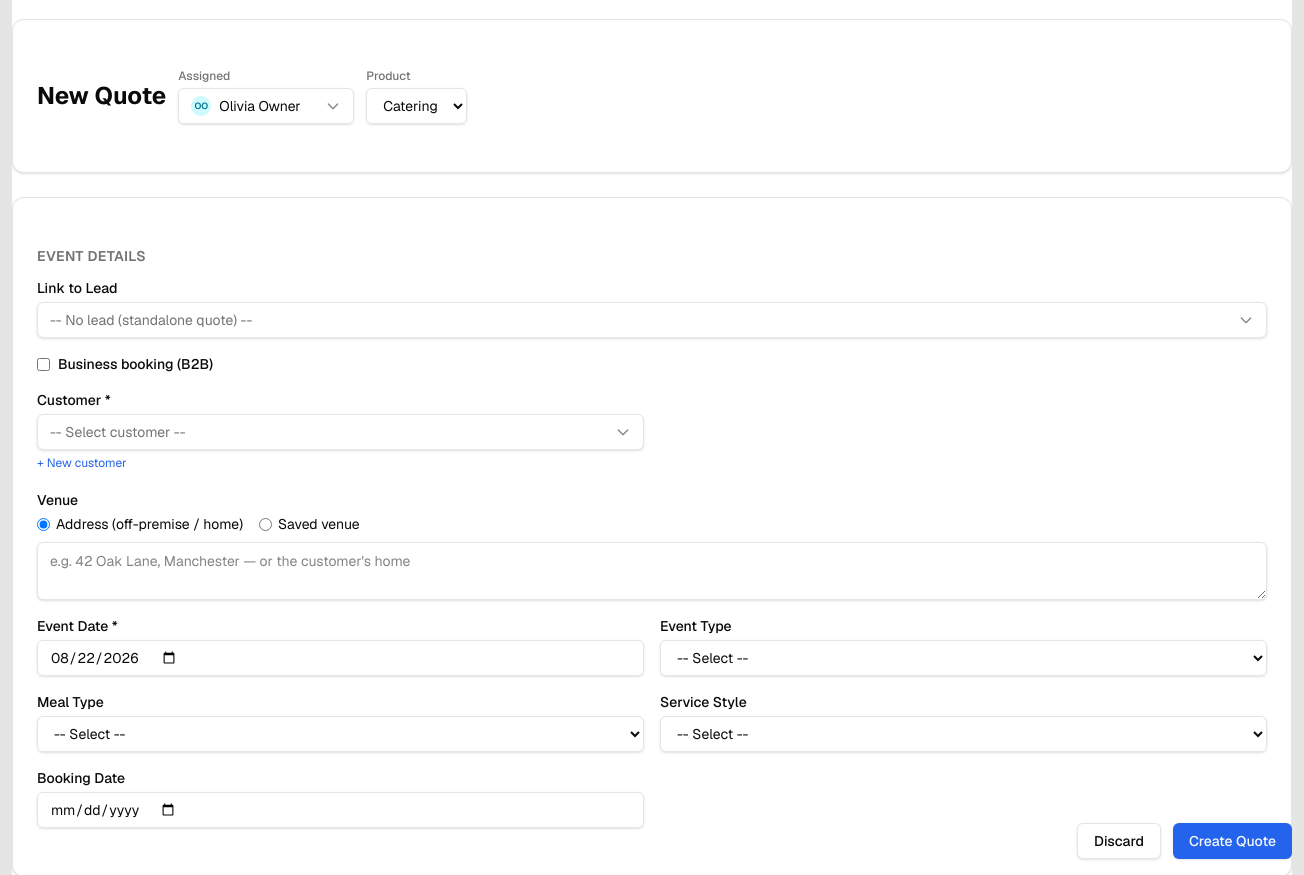
Quote create — linking to a lead › filters to one lead and prefills the quote from it
Click the button with aria-label "Link to Lead": (151, 320) [37,302,1267,338]
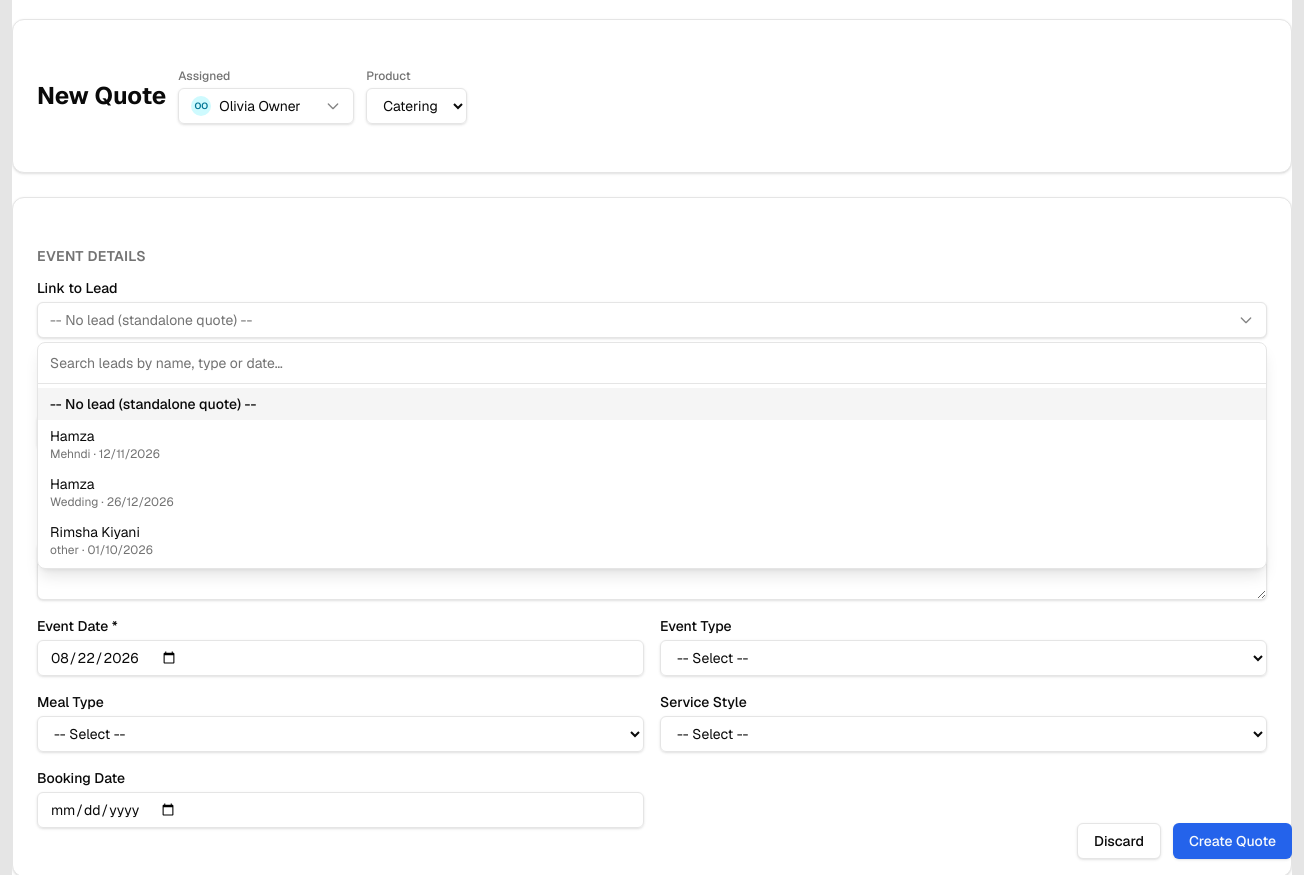
In the field named "Search link to lead": (652, 363) [50,353,1254,373], type "rimsha"
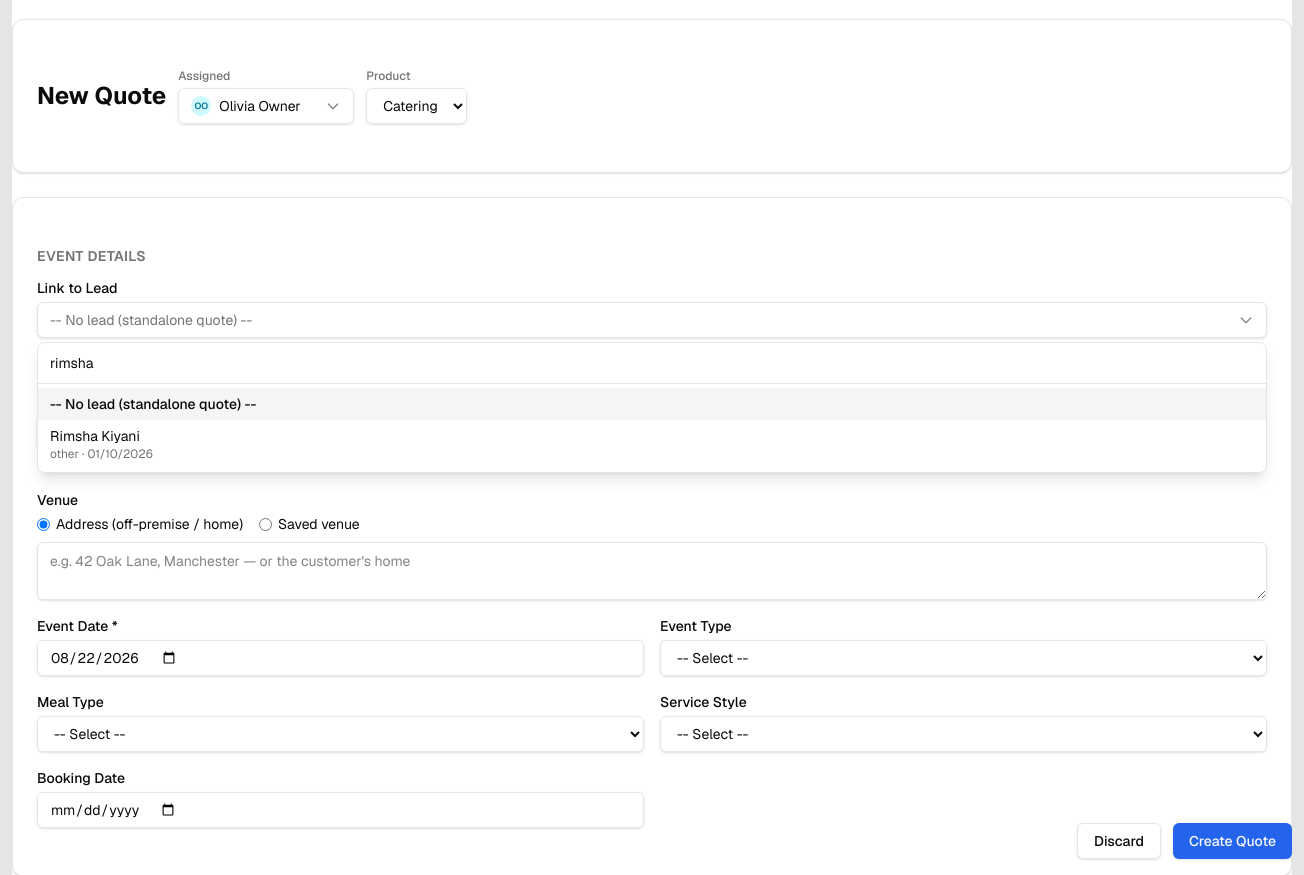
Click the text "Rimsha Kiyani": (95, 436) [50,426,140,446]
(page scrolled)
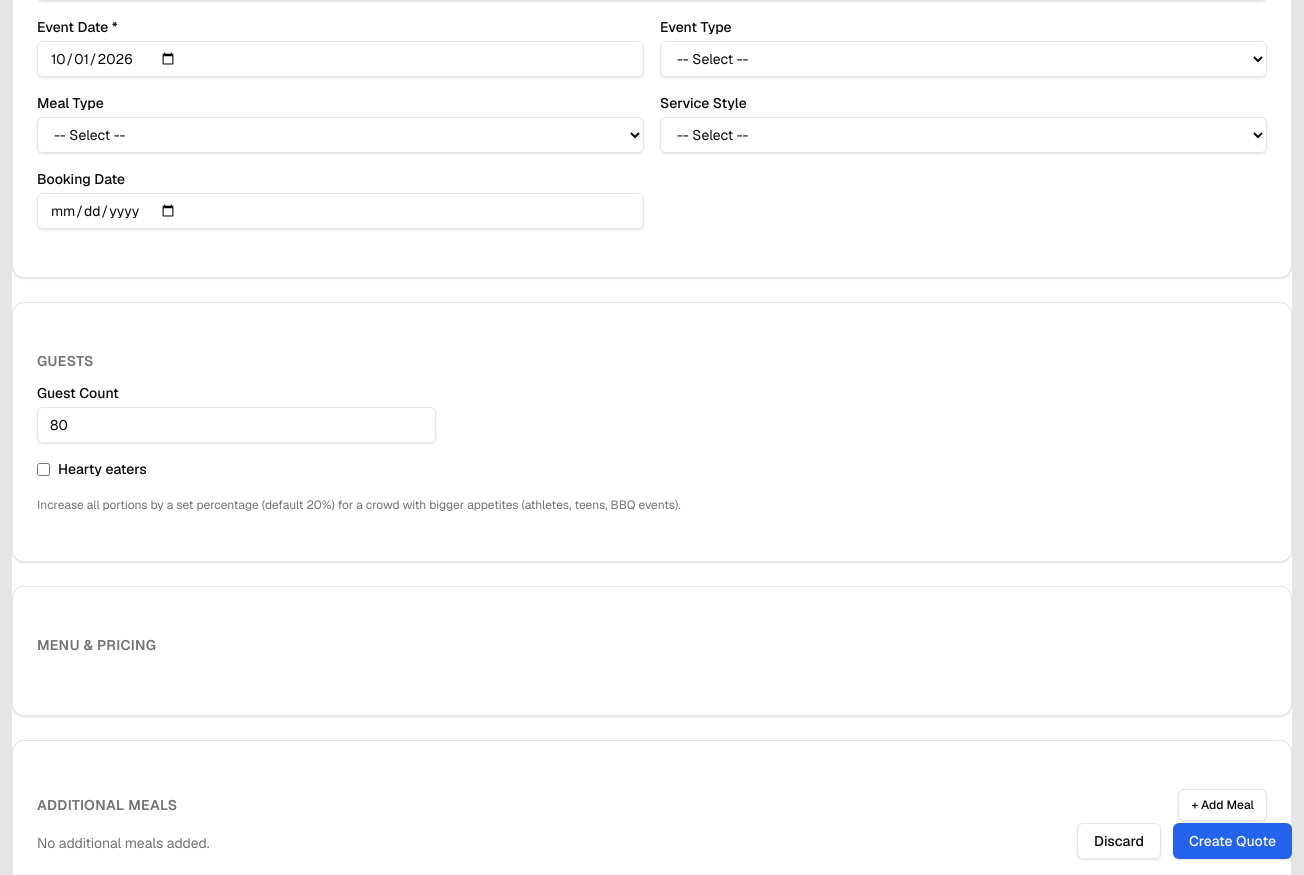
expect the field named "Guest Count" holds "80": met, box [37,407,436,443]
